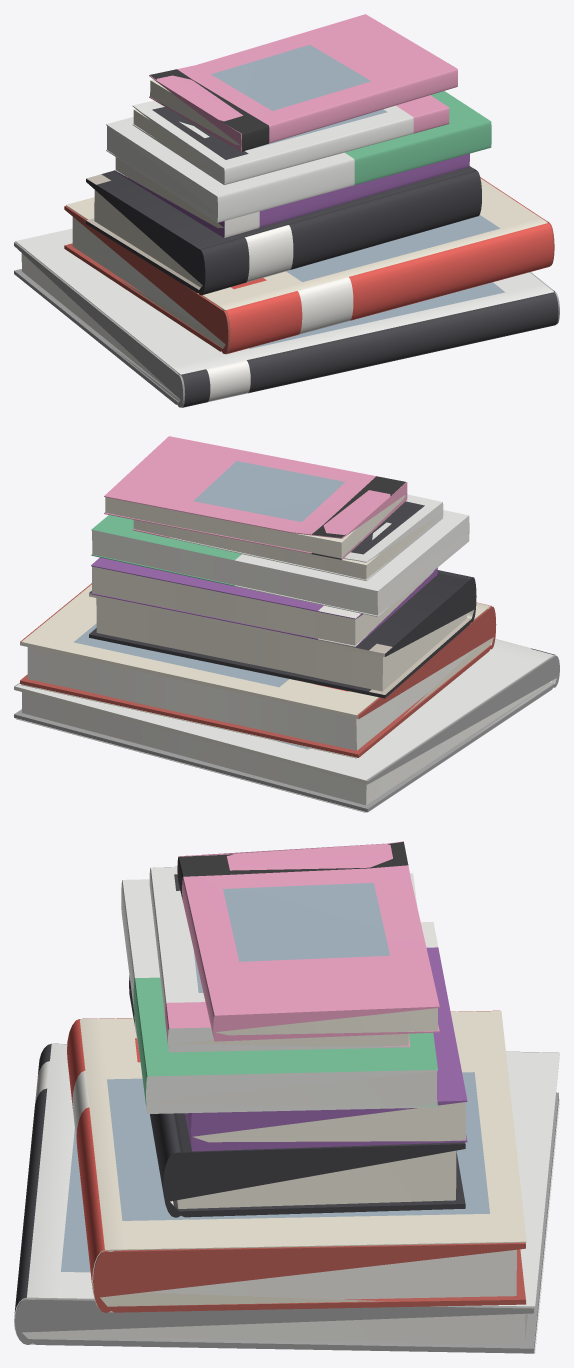
Rendered from paper_books_stacked_b.fbx.
3 renders of one model, top to bottom at view 1: azimuth 30°, elevation 25°; view 2: azimuth 150°, elevation 25°; view 3: azimuth 270°, elevation 25°, orthographic. The views are drawn at different scales.
Visible parts, largest first — view 1: paper_books_stacked_b; view 2: paper_books_stacked_b; view 3: paper_books_stacked_b.
Part boxes in pixels (x1,y1,x2,y2): paper_books_stacked_b: (14, 14, 559, 407); paper_books_stacked_b: (14, 436, 559, 812); paper_books_stacked_b: (14, 841, 559, 1353).
Size of the model in its own units: 0.2965 by 0.1596 by 0.2521.
